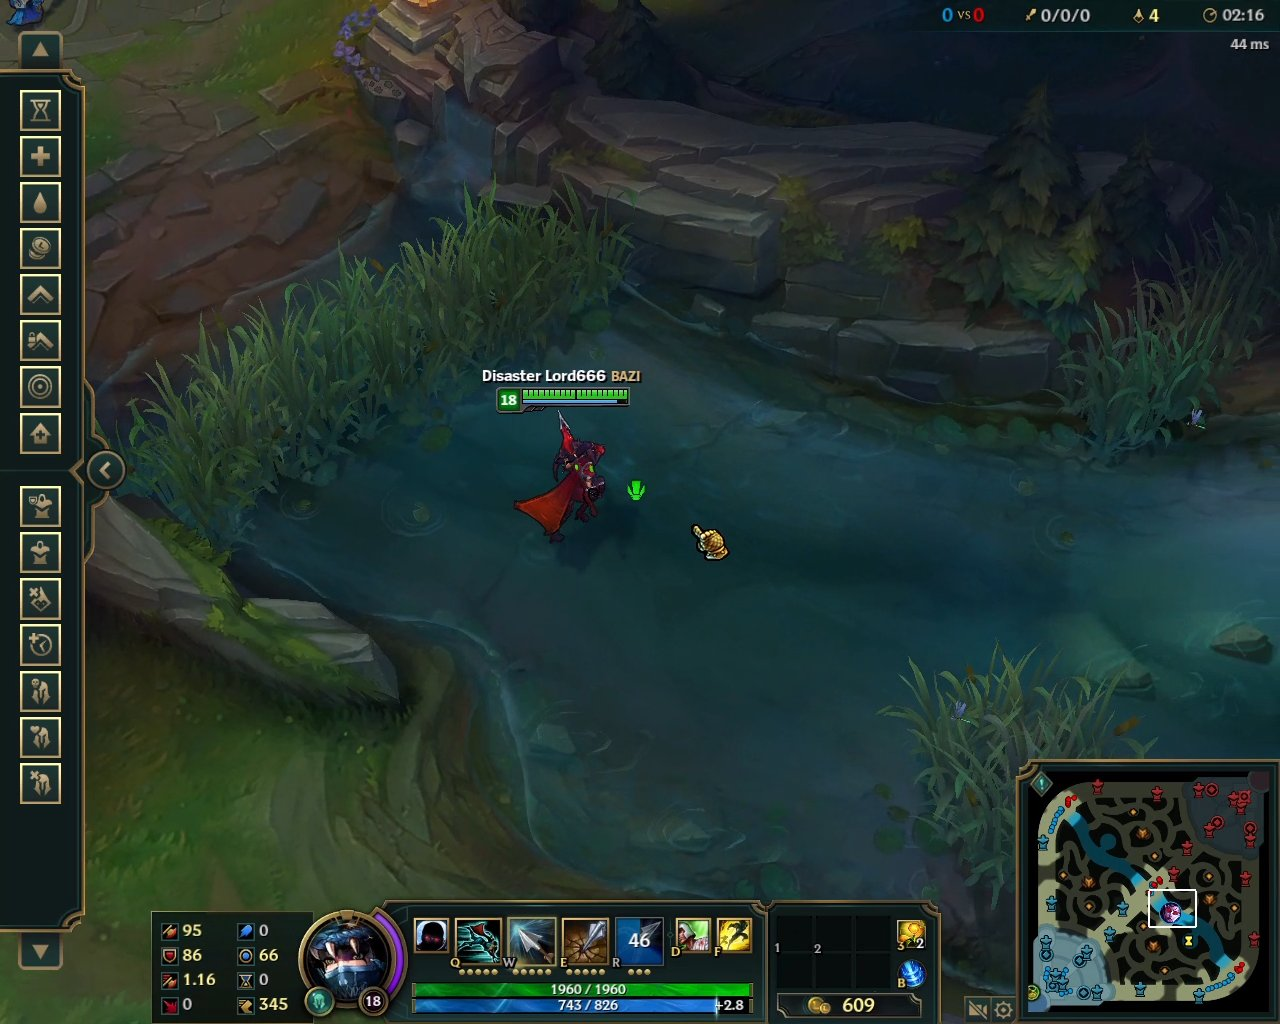Vayne: (508, 406, 620, 549)
